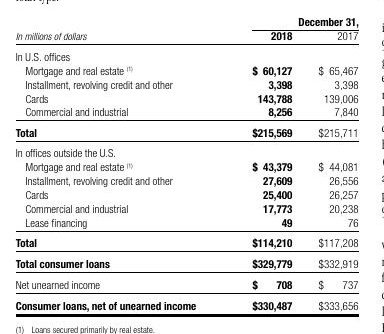table: (0, 0, 384, 334)
